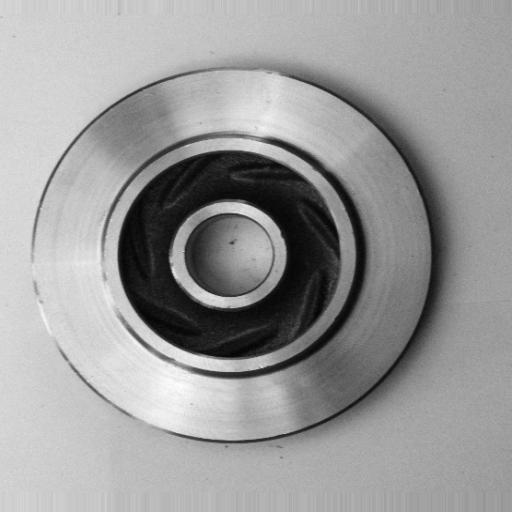scratch: (25, 246, 70, 372), (90, 250, 128, 330)
unpolished_casting: (28, 64, 440, 443)
